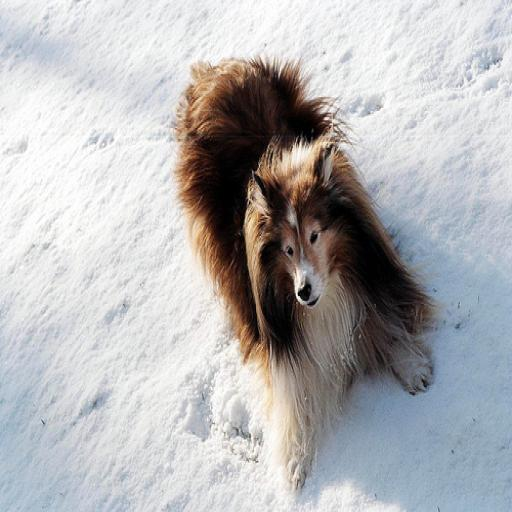dog_face: (253, 154, 352, 316)
